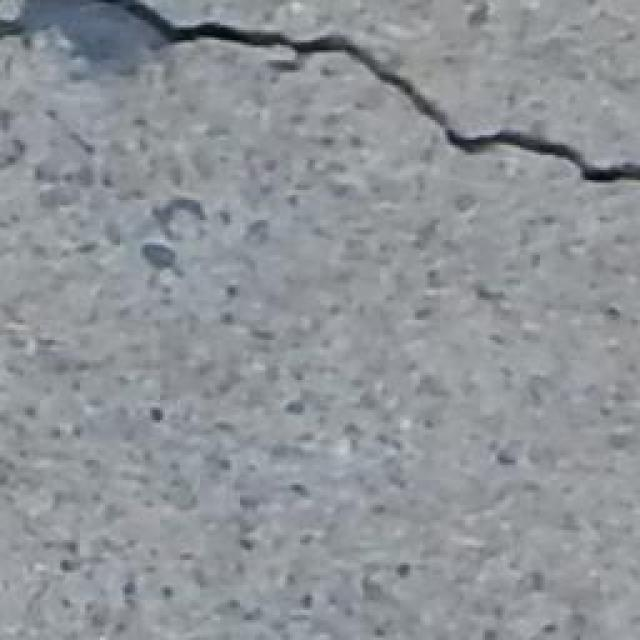concrete-crack: (95, 0, 638, 189)
